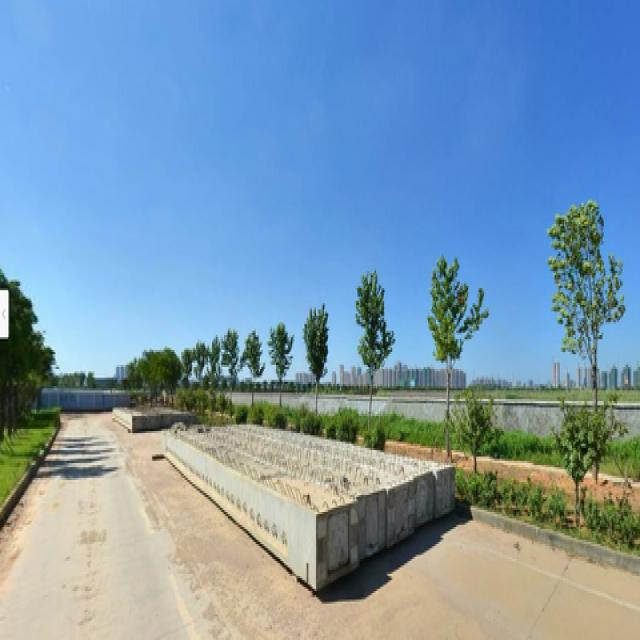meta: (551, 198, 608, 474), (421, 237, 475, 461), (355, 273, 385, 429), (300, 294, 325, 399)
